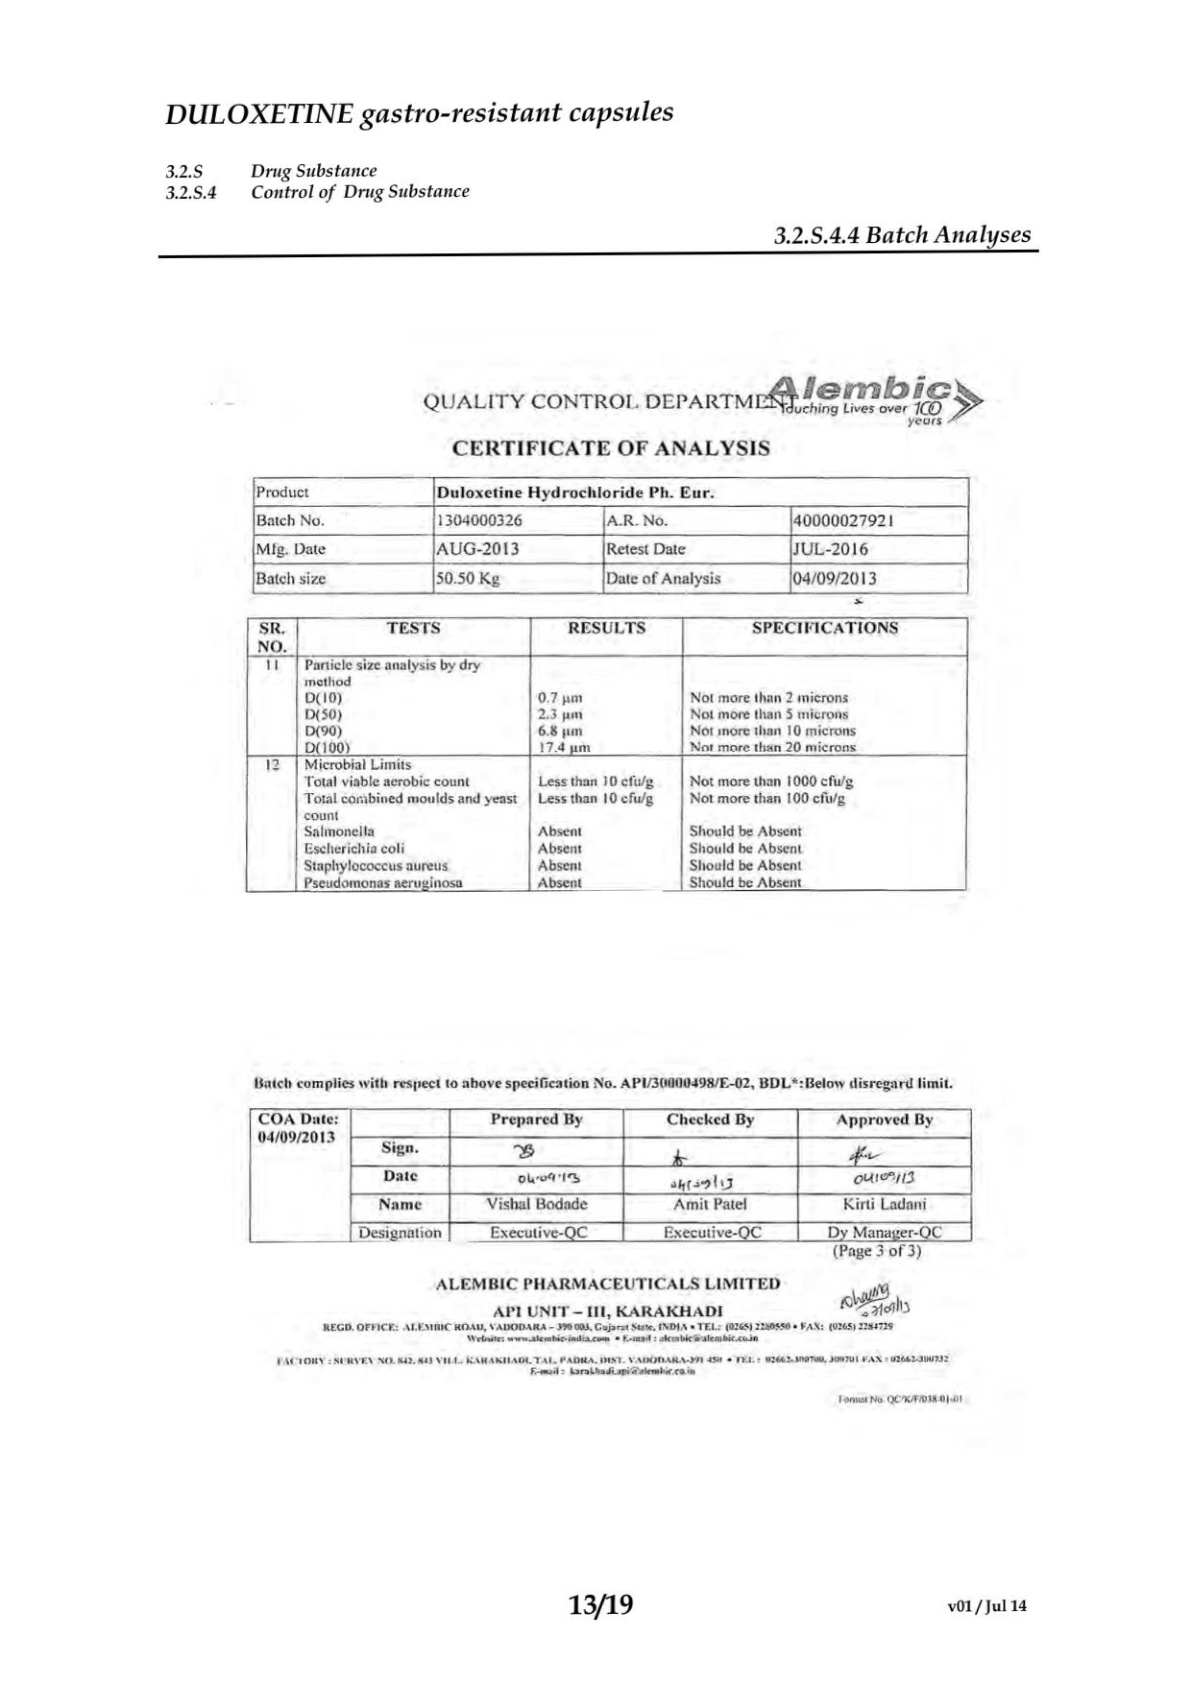full_lined: (246, 615, 968, 894)
merged_cells: (249, 1106, 973, 1242), (253, 475, 970, 596)
